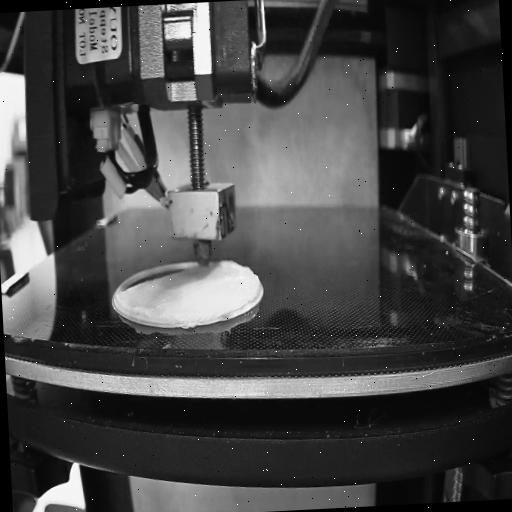over_extrusion: (226, 254, 264, 306)
